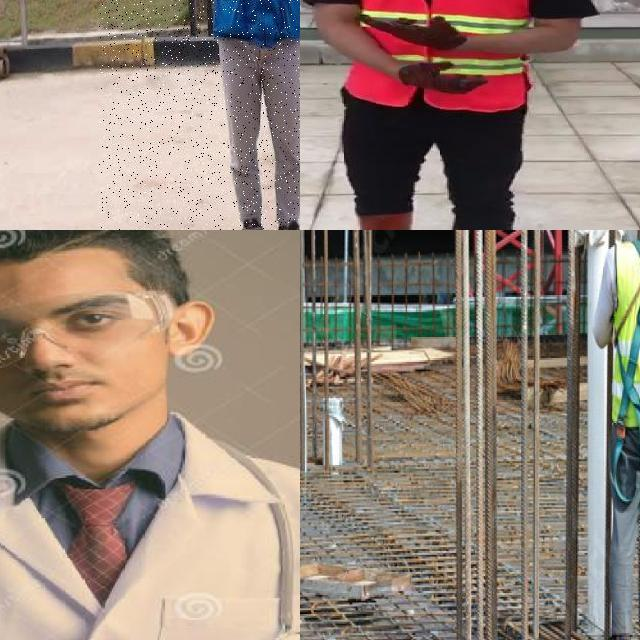Harness: (613, 308, 640, 505)
No_Ear-Protection: (168, 292, 215, 355)
boots: (333, 211, 410, 230), (234, 213, 265, 230)
face_nomask: (0, 296, 124, 410)
glasses: (0, 288, 178, 376)
head_nohelmet: (0, 230, 300, 640), (0, 230, 154, 284)
person: (319, 0, 583, 230), (99, 0, 300, 230)
vest: (342, 0, 543, 113)
